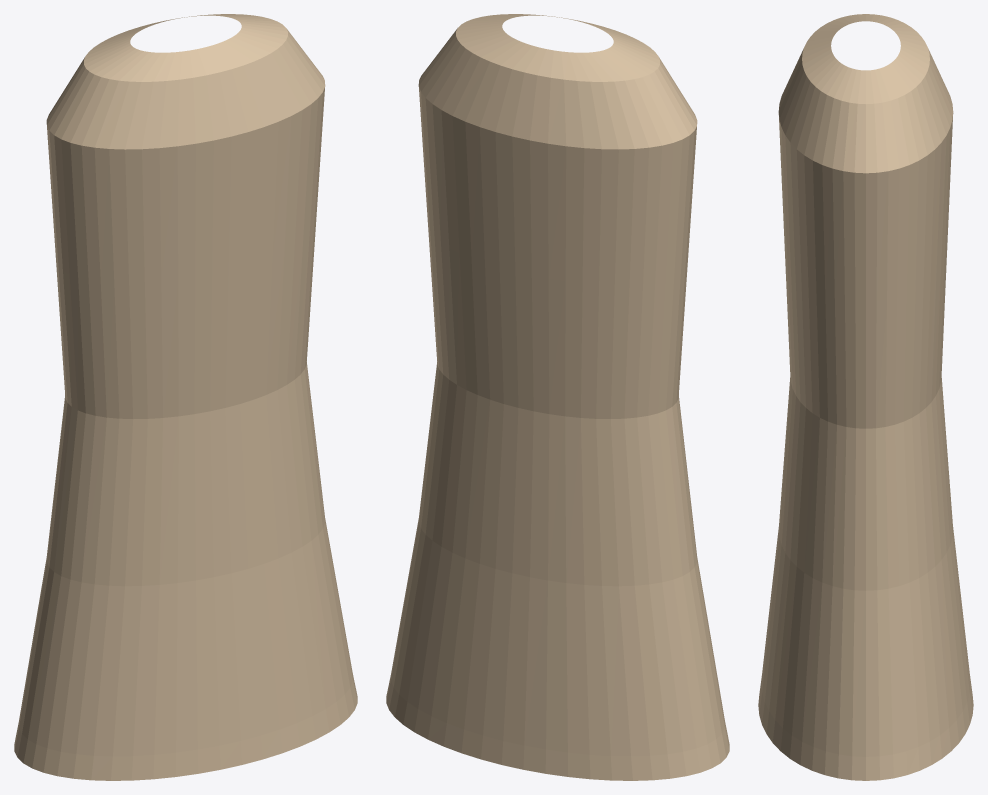
The model's file is garment-draco.glb.
3 views of the same model, side by side, from view 1: azimuth 30°, elevation 25°; view 2: azimuth 150°, elevation 25°; view 3: azimuth 270°, elevation 25° (orthographic). The views are drawn at different scales.
Parts seen in each view (by area): view 1: tunic; view 2: tunic; view 3: tunic.
Part boxes in pixels (x1,y1,x2,y2): tunic: (14,14,357,780); tunic: (386,14,729,780); tunic: (758,14,973,780).
Bounding box in the file's own units: 0.74 × 1.5 × 0.444.
